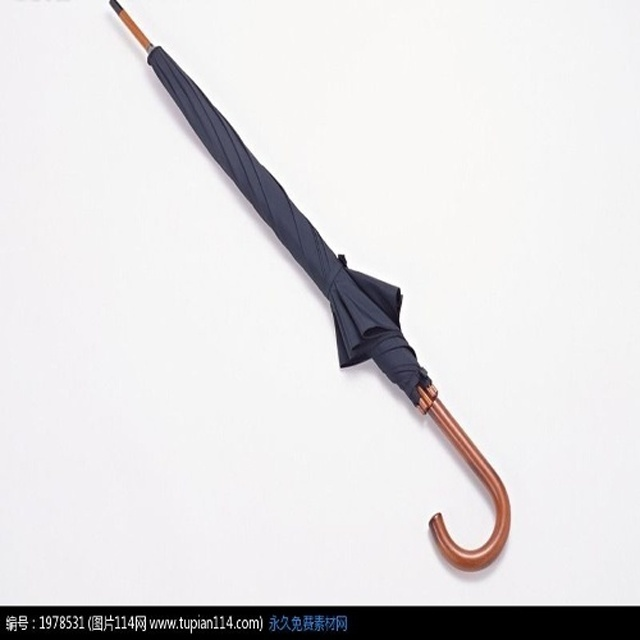umbrella: (107, 1, 517, 575)
